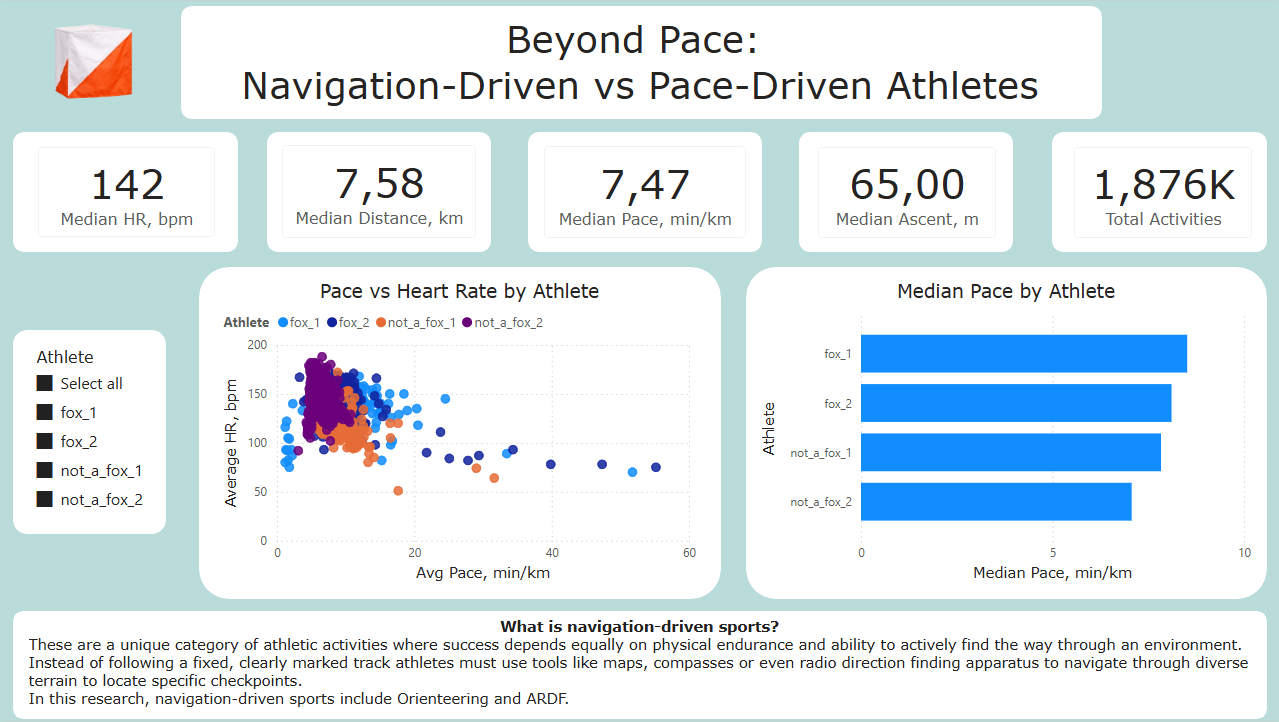

The dashboard page shown, as its layout file describes it:
{"tool":"powerbi","page":{"name":"Athlete Profiles","canvas":[1280,720],"ordinal":0},"visuals":[{"type":"shape","box":[182.1,5.2,921,113.2],"z":1000},{"type":"textbox","box":[192.5,9.1,897.6,106.7],"z":2000},{"type":"shape","box":[267.8,131.4,224.7,119.6],"z":3000},{"type":"shape","box":[528.6,131.4,233.9,119.6],"z":4000},{"type":"shape","box":[799.8,131.1,214.6,119.7],"z":5000},{"type":"shape","box":[1053.4,131.1,214.6,119.7],"z":6000},{"type":"cardVisual","title":"Median Ascent, m","fields":{"Data":["CountNonNull(garmin_combined.Title)"]},"box":[1065.1,135,197.7,111.9],"z":7000},{"type":"cardVisual","title":"Median Pace, min/km","fields":{"Data":["Median(garmin_combined.Avg Pace num)"]},"box":[535.2,134,222.1,113],"z":8000},{"type":"cardVisual","title":"Median Ascent, m","fields":{"Data":["Median(garmin_combined.Total Ascent)"]},"box":[808.9,135,197.7,111.9],"z":9000},{"type":"cardVisual","title":"Median Distance, km","fields":{"Data":["Median(garmin_combined.Distance)"]},"box":[273,132.7,214.2,114.3],"z":10000},{"type":"shape","box":[14.3,329.1,152.2,204.2],"z":11000},{"type":"slicer","fields":{"Values":["garmin_combined.Athlete"]},"box":[24.7,340.8,132.7,180.8],"z":12000},{"type":"shape","box":[200.3,266.4,521.6,331.7],"z":13000},{"type":"scatterChart","title":"Pace vs Heart Rate by Athlete","fields":{"X":["garmin_combined.Avg Pace num"],"Y":["garmin_combined.Avg HR"],"Series":["garmin_combined.Athlete"]},"box":[219.8,278.1,482.6,307],"z":14000},{"type":"shape","box":[746.7,266.4,521.6,331.7],"z":15000},{"type":"clusteredBarChart","title":"Median Pace by Athlete","fields":{"Category":["garmin_combined.Athlete"],"Y":["Median(garmin_combined.Avg Pace num)"]},"box":[758.4,278.1,498.2,307],"z":16000},{"type":"shape","box":[14.3,609.8,1254,108],"z":17000},{"type":"textbox","box":[24.7,611.1,1231.9,106.7],"z":18000},{"type":"image","box":[41.4,21.4,106.9,78.8],"z":19000},{"type":"shape","box":[14.3,131.1,224.8,119.6],"z":20000},{"type":"cardVisual","title":"Median HR, bpm","fields":{"Data":["Median(garmin_combined.Avg HR)"]},"box":[28.7,134.9,197.1,111],"z":21000}]}

Visuals, with their boxes in screenshot pixels (x1, y1, x2, y2), scaled from the page's 1280x720 canvas onto the 1279x722 screenshot:
shape: {"left": 182, "top": 5, "right": 1102, "bottom": 119}
textbox: {"left": 192, "top": 9, "right": 1089, "bottom": 116}
shape: {"left": 268, "top": 132, "right": 492, "bottom": 252}
shape: {"left": 528, "top": 132, "right": 762, "bottom": 252}
shape: {"left": 799, "top": 131, "right": 1014, "bottom": 251}
shape: {"left": 1053, "top": 131, "right": 1267, "bottom": 251}
"Median Ascent, m" cardVisual: {"left": 1064, "top": 135, "right": 1262, "bottom": 248}
"Median Pace, min/km" cardVisual: {"left": 535, "top": 134, "right": 757, "bottom": 248}
"Median Ascent, m" cardVisual: {"left": 808, "top": 135, "right": 1006, "bottom": 248}
"Median Distance, km" cardVisual: {"left": 273, "top": 133, "right": 487, "bottom": 248}
shape: {"left": 14, "top": 330, "right": 166, "bottom": 535}
slicer - garmin_combined.Athlete: {"left": 25, "top": 342, "right": 157, "bottom": 523}
shape: {"left": 200, "top": 267, "right": 721, "bottom": 600}
"Pace vs Heart Rate by Athlete" scatterChart: {"left": 220, "top": 279, "right": 702, "bottom": 587}
shape: {"left": 746, "top": 267, "right": 1267, "bottom": 600}
"Median Pace by Athlete" clusteredBarChart: {"left": 758, "top": 279, "right": 1256, "bottom": 587}
shape: {"left": 14, "top": 611, "right": 1267, "bottom": 720}
textbox: {"left": 25, "top": 613, "right": 1256, "bottom": 720}
image: {"left": 41, "top": 21, "right": 148, "bottom": 100}
shape: {"left": 14, "top": 131, "right": 239, "bottom": 251}
"Median HR, bpm" cardVisual: {"left": 29, "top": 135, "right": 226, "bottom": 247}
